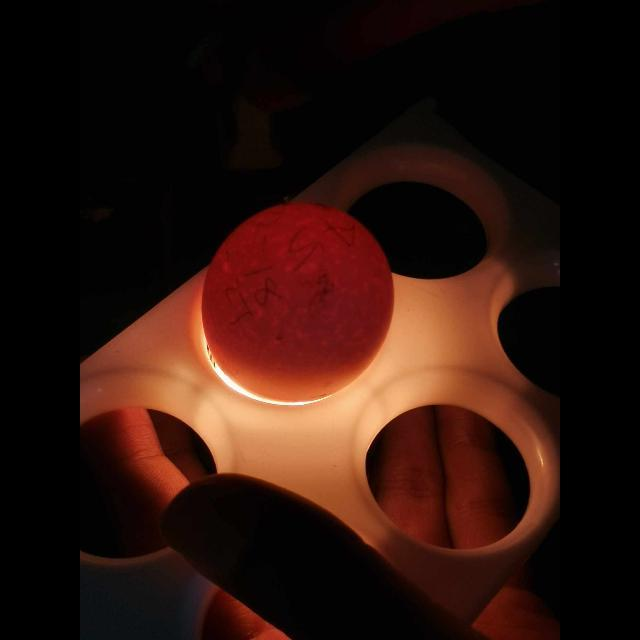Fertile: (209, 203, 395, 394)
